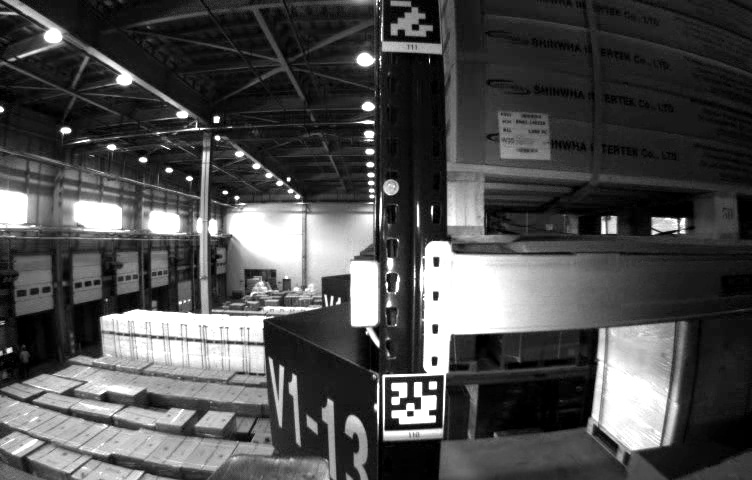True Barcode: (498, 109, 552, 160)
